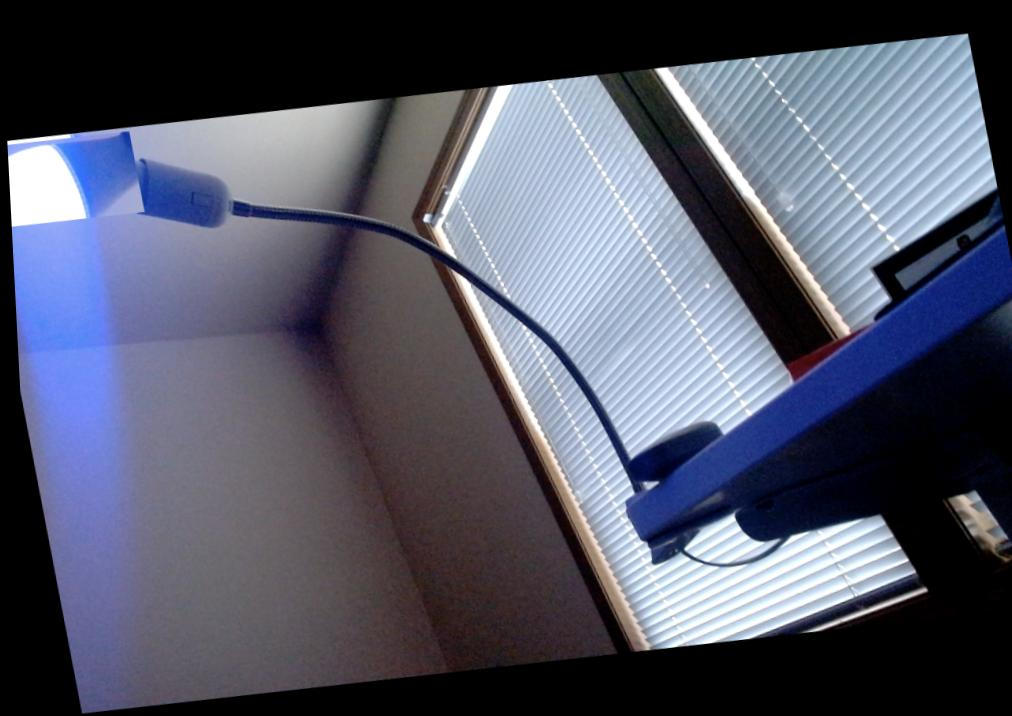TubeLight: (5, 127, 142, 232)
